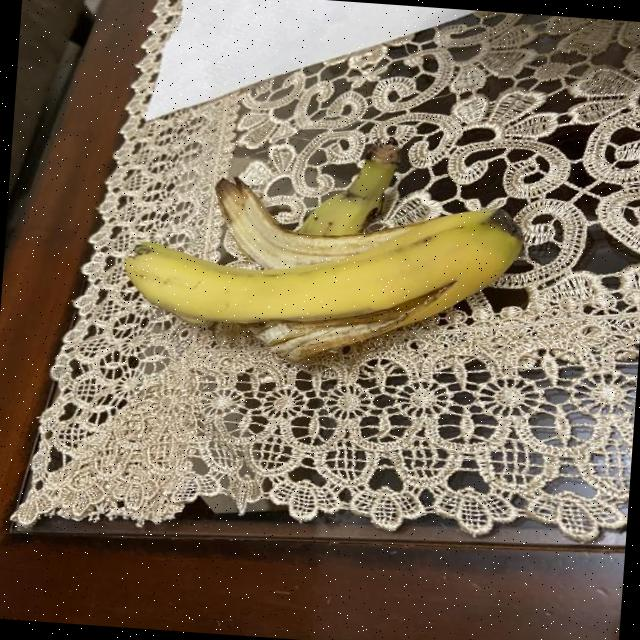banana-peel: (116, 168, 526, 376)
